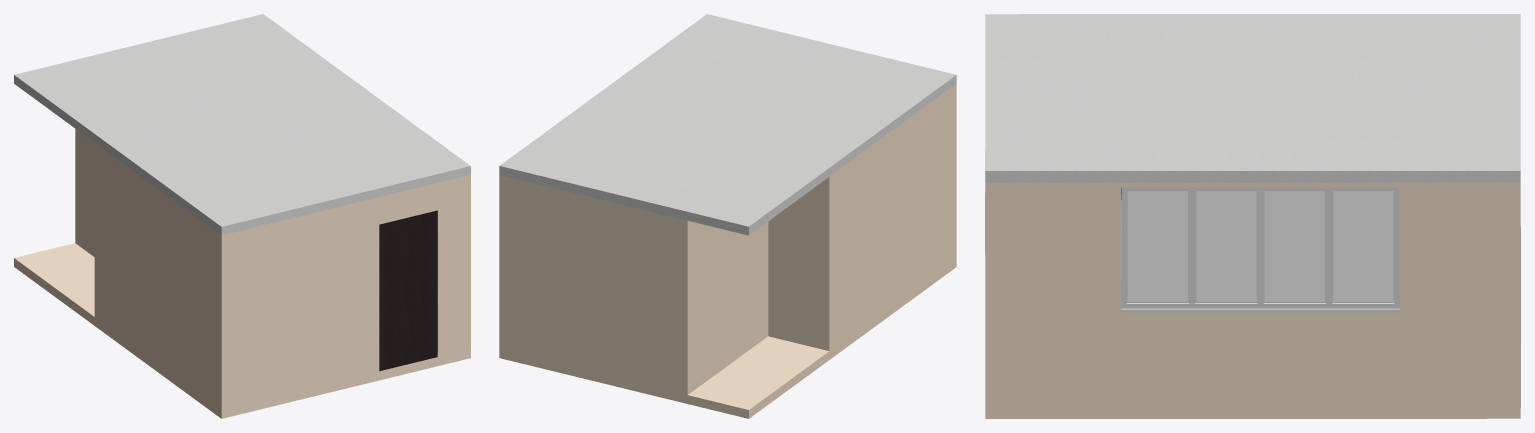
File: FloorPlan406_physics.fbx
3 views of the same model, side by side, from view 1: azimuth 30°, elevation 25°; view 2: azimuth 150°, elevation 25°; view 3: azimuth 270°, elevation 25° (orthographic). The views are drawn at different scales.
Visible parts, largest first — view 1: FP406:Walls, FP406:Ceiling, FP406:Door, FP406:Floor, FP406:DoorFrame.001; view 2: FP406:Walls, FP406:Ceiling, FP406:Floor; view 3: FP406:Ceiling, FP406:Walls, FP406:polySurface44, FP406:polySurface49, FP406:polySurface45, FP406:polySurface43, FP406:polySurface40, FP406:Floor.
Part boxes in pixels (bbox=[...]): FP406:Walls: bbox=[75, 129, 470, 410]; FP406:Ceiling: bbox=[14, 14, 470, 235]; FP406:Door: bbox=[379, 210, 437, 371]; FP406:Floor: bbox=[14, 243, 470, 418]; FP406:DoorFrame.001: bbox=[373, 203, 443, 372]; FP406:Walls: bbox=[499, 83, 956, 395]; FP406:Ceiling: bbox=[499, 14, 956, 235]; FP406:Floor: bbox=[499, 259, 956, 418]; FP406:Ceiling: bbox=[985, 14, 1520, 182]; FP406:Walls: bbox=[985, 182, 1520, 407]; FP406:polySurface44: bbox=[1121, 187, 1399, 312]; FP406:polySurface49: bbox=[1127, 191, 1187, 301]; FP406:polySurface45: bbox=[1196, 191, 1256, 301]; FP406:polySurface43: bbox=[1264, 191, 1324, 301]; FP406:polySurface40: bbox=[1333, 191, 1393, 301]; FP406:Floor: bbox=[985, 407, 1520, 418].
Bounding box in the file's own units: 358 × 264 × 516.
